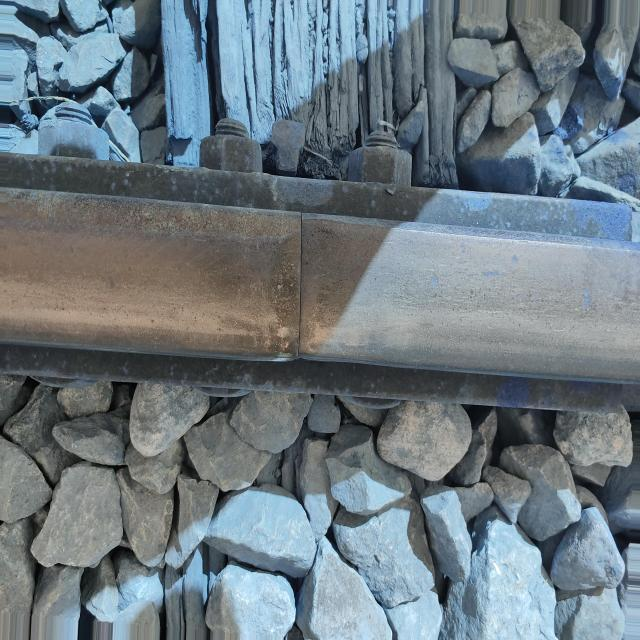Good Joint: (2, 103, 637, 447)
